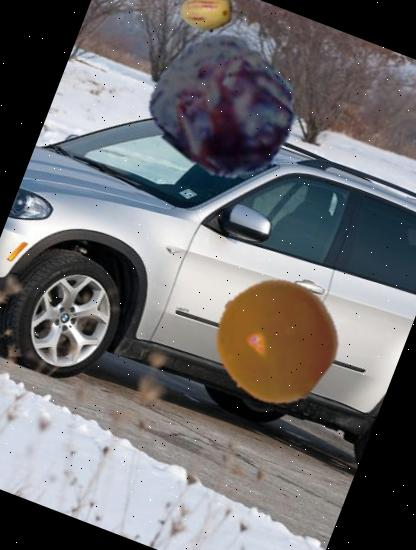Dates: (133, 15, 319, 201)
Pepino: (172, 0, 243, 48)
Physalis: (197, 260, 356, 420)
